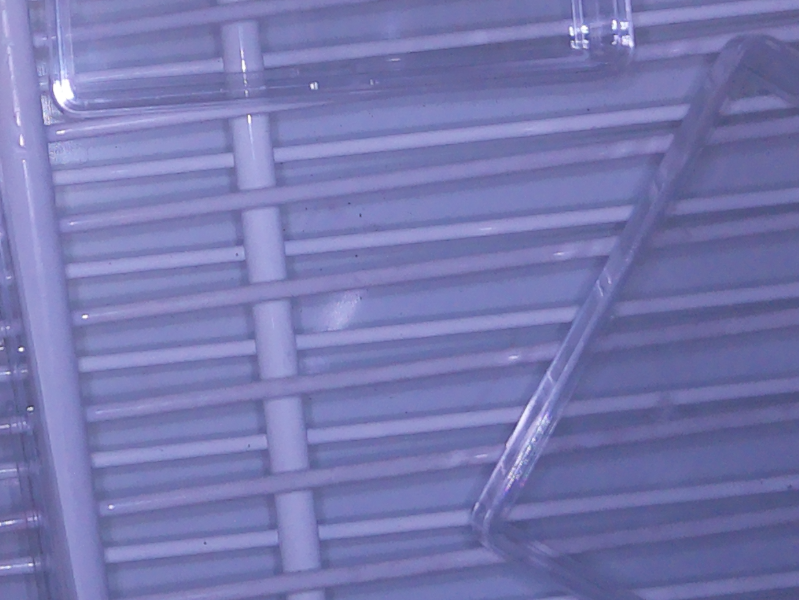plate: (467, 32, 799, 600), (26, 1, 647, 123)
